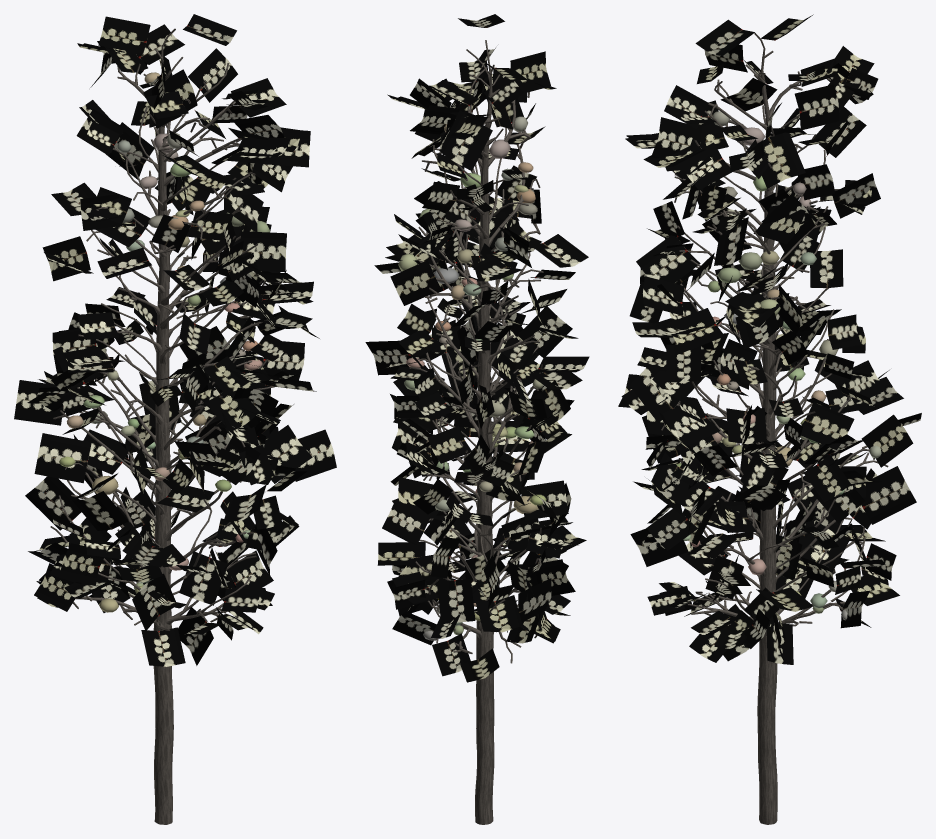
The model's file is tree_06_ginkgo_young.glb.
3 views of the same model, side by side, from view 1: azimuth 30°, elevation 25°; view 2: azimuth 150°, elevation 25°; view 3: azimuth 270°, elevation 25° (orthographic). The views are drawn at different scales.
Parts seen in each view (by area): view 1: tree_06_ginkgo_young.leaves, tree_06_ginkgo_young.trunk_branches, tree_06_ginkgo_young.foliage_volume; view 2: tree_06_ginkgo_young.leaves, tree_06_ginkgo_young.trunk_branches, tree_06_ginkgo_young.foliage_volume; view 3: tree_06_ginkgo_young.leaves, tree_06_ginkgo_young.trunk_branches, tree_06_ginkgo_young.foliage_volume.
Part boxes in pixels (x1,y1,x2,y2): tree_06_ginkgo_young.leaves: [14, 14, 336, 666]; tree_06_ginkgo_young.trunk_branches: [50, 28, 274, 824]; tree_06_ginkgo_young.foliage_volume: [59, 72, 270, 612]; tree_06_ginkgo_young.leaves: [365, 14, 589, 682]; tree_06_ginkgo_young.trunk_branches: [409, 40, 544, 824]; tree_06_ginkgo_young.foliage_volume: [398, 116, 546, 640]; tree_06_ginkgo_young.leaves: [618, 14, 921, 664]; tree_06_ginkgo_young.trunk_branches: [661, 33, 888, 824]; tree_06_ginkgo_young.foliage_volume: [676, 111, 881, 620].
Size of the model in its own units: 4.17 by 13.66 by 4.7.
Materials: 3 (2 with a texture image).
